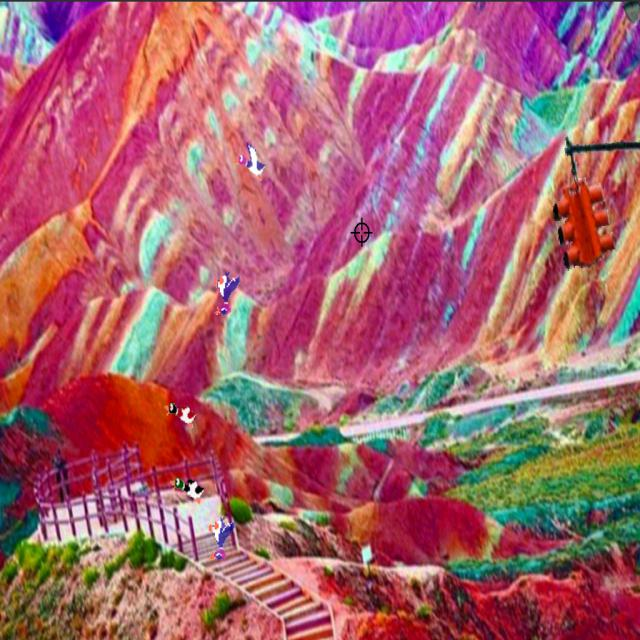duck: (229, 132, 272, 186), (164, 393, 201, 436), (169, 471, 209, 509)
falling_duck: (207, 507, 236, 571), (212, 264, 239, 320)
